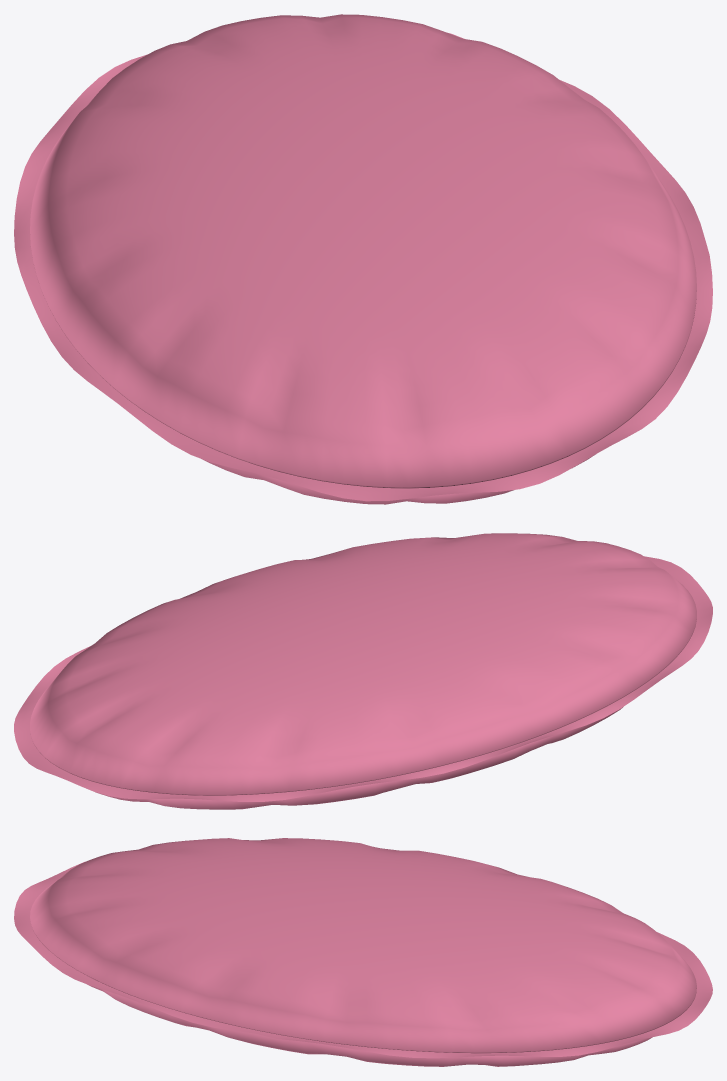
Rendered from leaf.glb.
3 views of the same model, one above another, from view 1: azimuth 30°, elevation 25°; view 2: azimuth 150°, elevation 25°; view 3: azimuth 270°, elevation 25° (orthographic). The views are drawn at different scales.
Parts seen in each view (by area): view 1: Leaf, Leaf weld; view 2: Leaf, Leaf weld; view 3: Leaf, Leaf weld.
Boxes of the visible parts, x1,y1,x2,y2 form: Leaf: (30,14,696,504); Leaf weld: (14,32,712,501); Leaf: (30,533,696,809); Leaf weld: (14,556,712,801); Leaf: (30,838,696,1066); Leaf weld: (14,862,712,1058).
Size of the model in its own units: 1.22 by 0.266 by 1.71.
